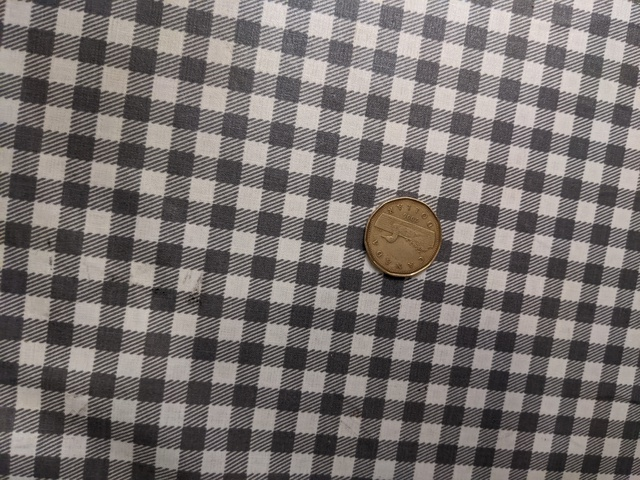loonie: (350, 183, 453, 281)
